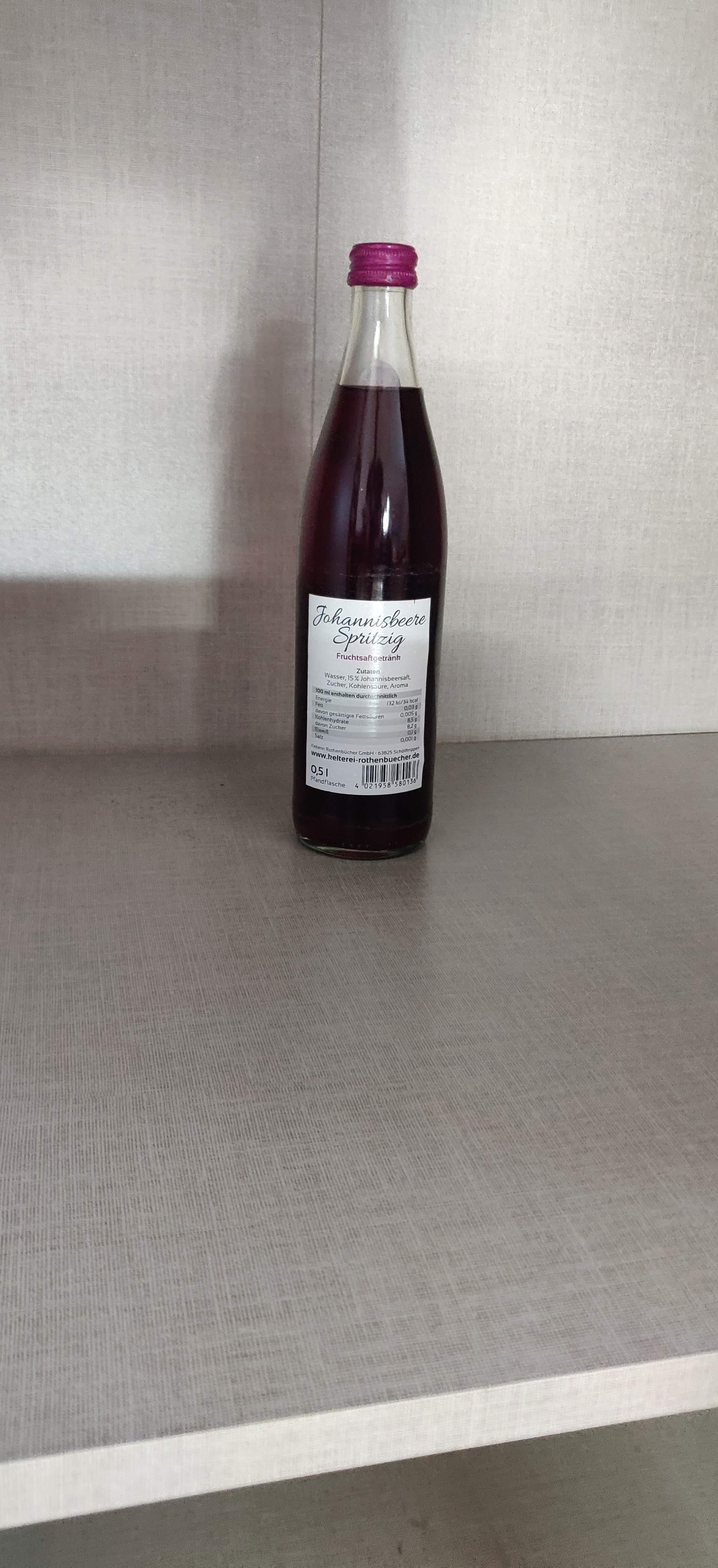bottle-glass: (285, 237, 455, 862)
